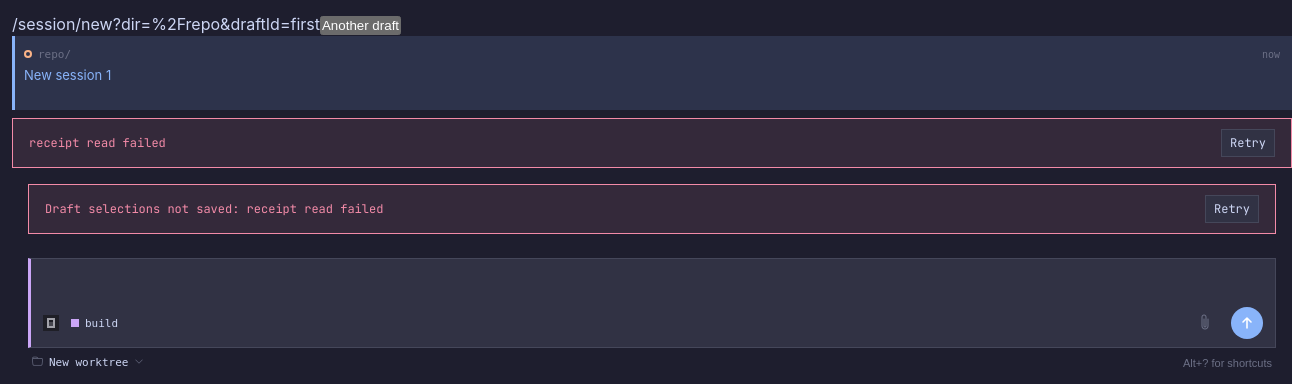
Test: new-conversation submission lifecycle › shows a safe receipt retry when the draft state cannot be read
The image size is (1292, 384).
Check: the message "receipt read failed Retry" is shown, box [12,118,1291,168]
Check: the text "Draft selections not saved: receipt read failed" is shown, box [45,201,383,217]
Click the 1st button "Retry" at (1248, 143), box [1221,129,1275,157]
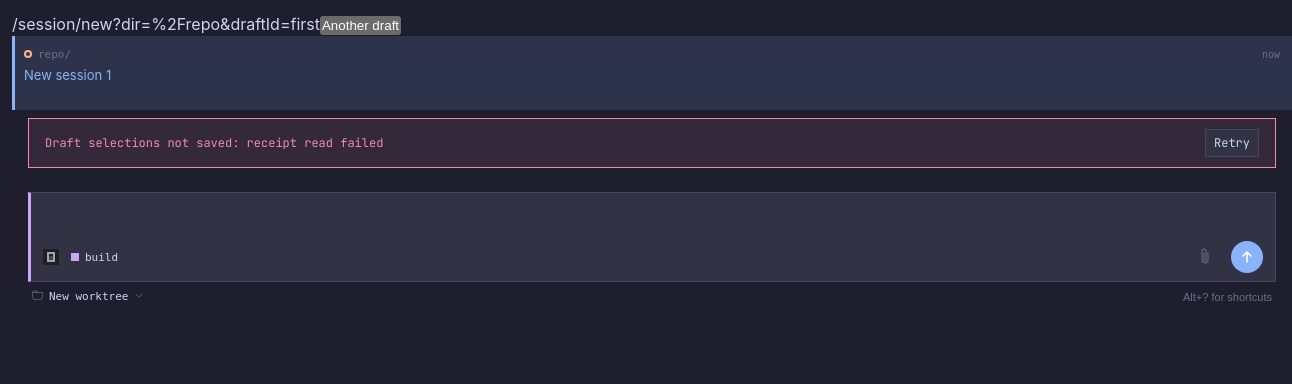
Click the button "Retry" at (1232, 143), box [1205,129,1259,157]
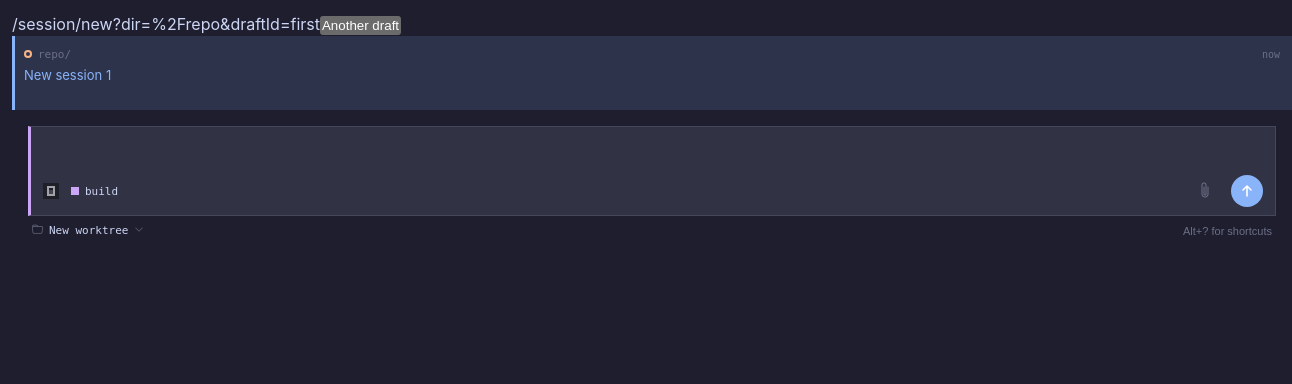
Check: the text box is shown, box [31,127,1275,171]
Check: no messages are shown
